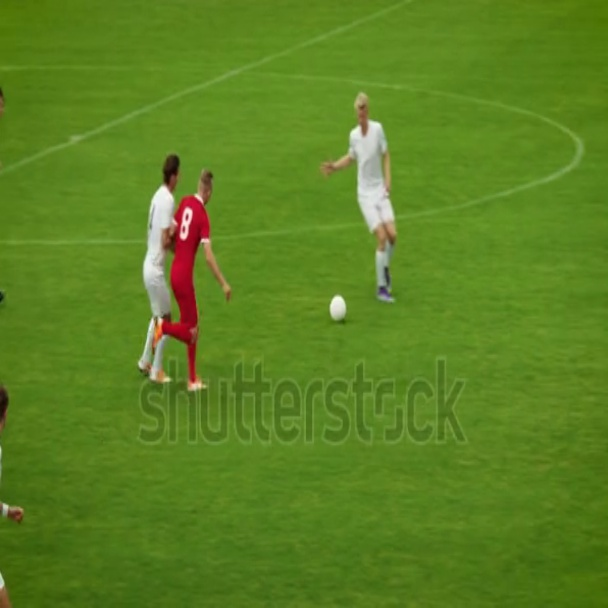ball: (331, 292, 348, 327)
